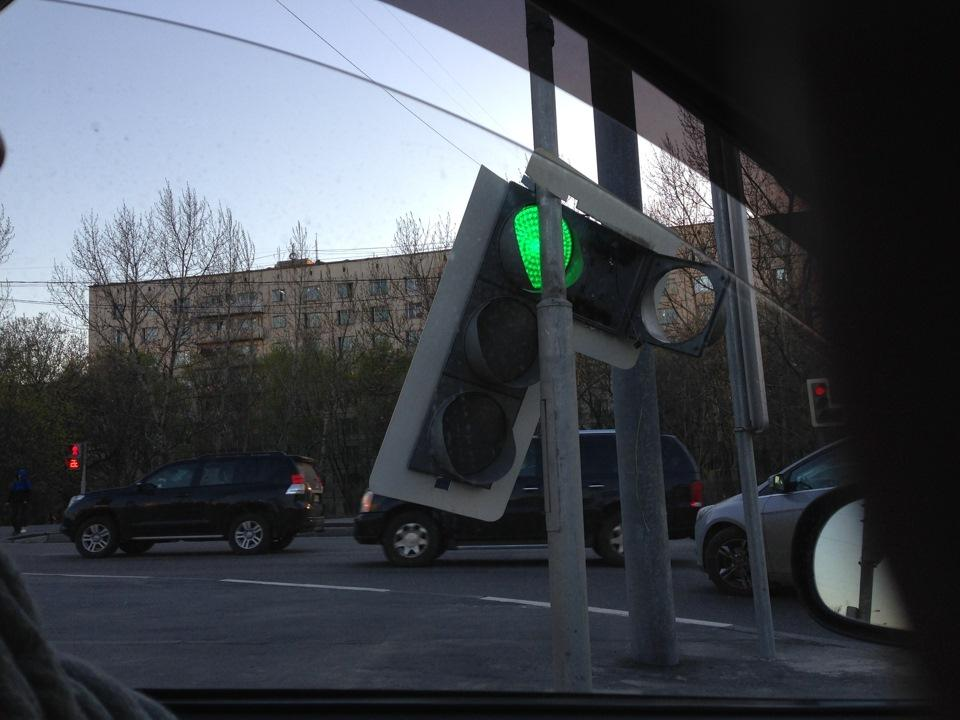off traffic light: (401, 181, 667, 499)
traffic light: (808, 380, 833, 427), (68, 442, 83, 471)
